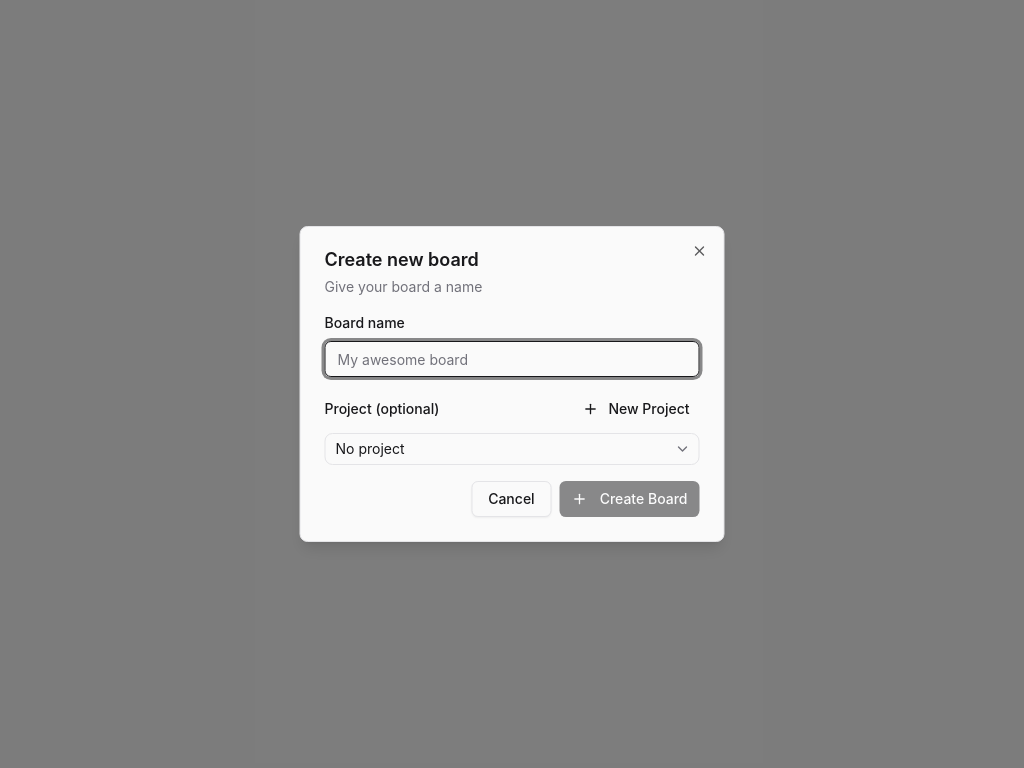
BoardFormModal create mode › renders project select with options
The image size is (1024, 768).
Click the dropdown named "project (optional)" at (370, 448), box [324,433,700,465]
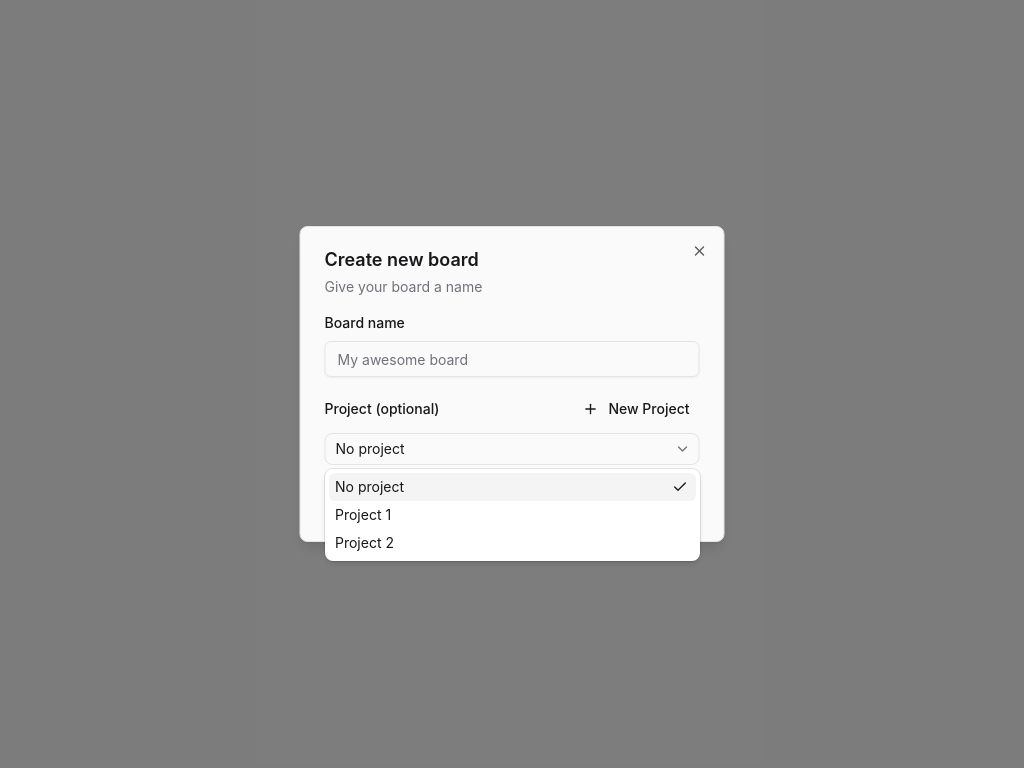
Now the option "No project" is shown, box [329,473,696,501]
Now the option "Project 1" is shown, box [335,506,391,523]
Now the option "Project 2" is shown, box [335,534,394,551]
